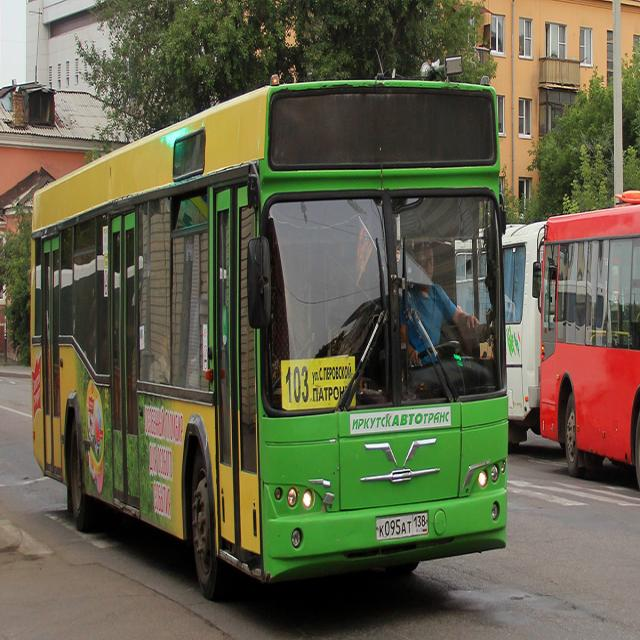number-of-bus: (285, 363, 311, 405)
